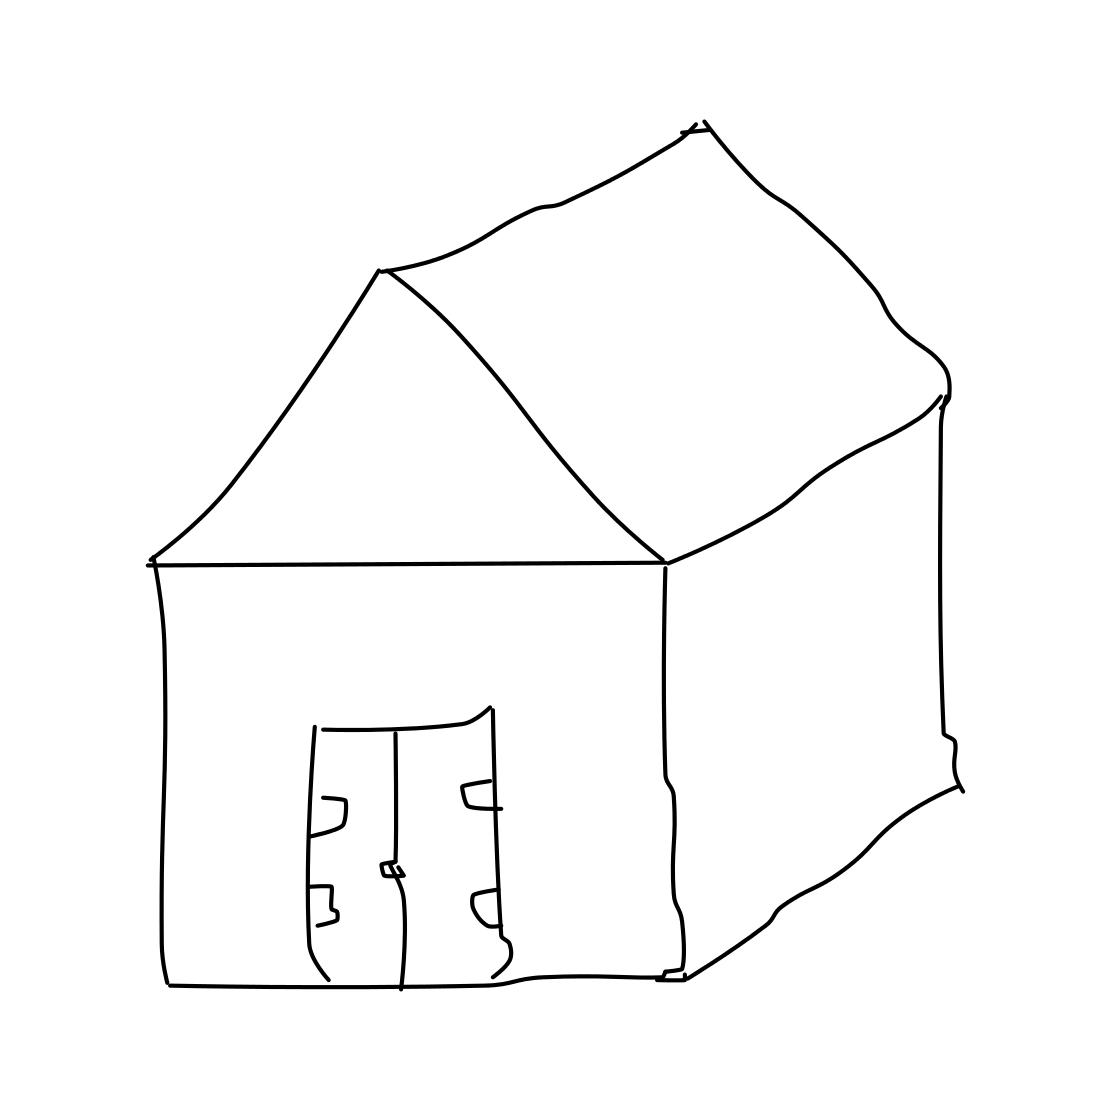House: (125, 108, 1021, 1007)
